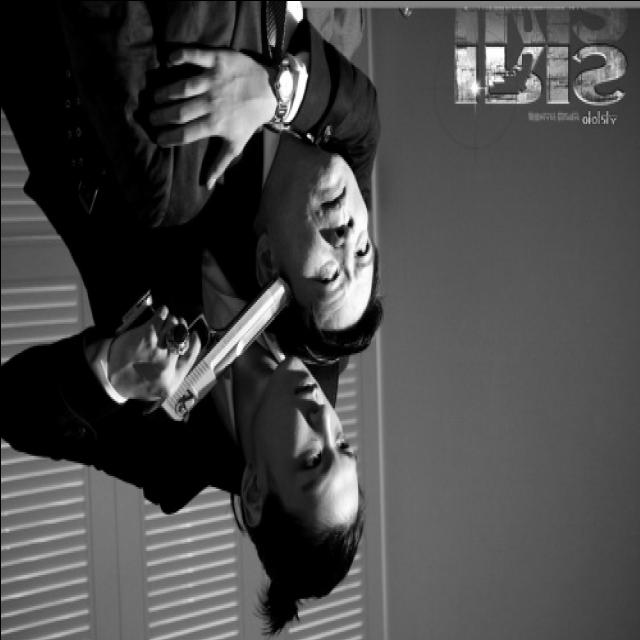weapons: (122, 227, 292, 459)
